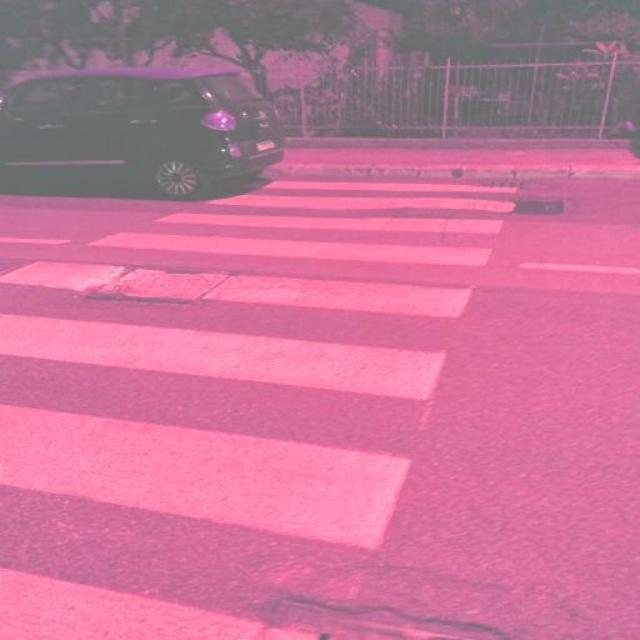sidewalk: (0, 180, 522, 551)
